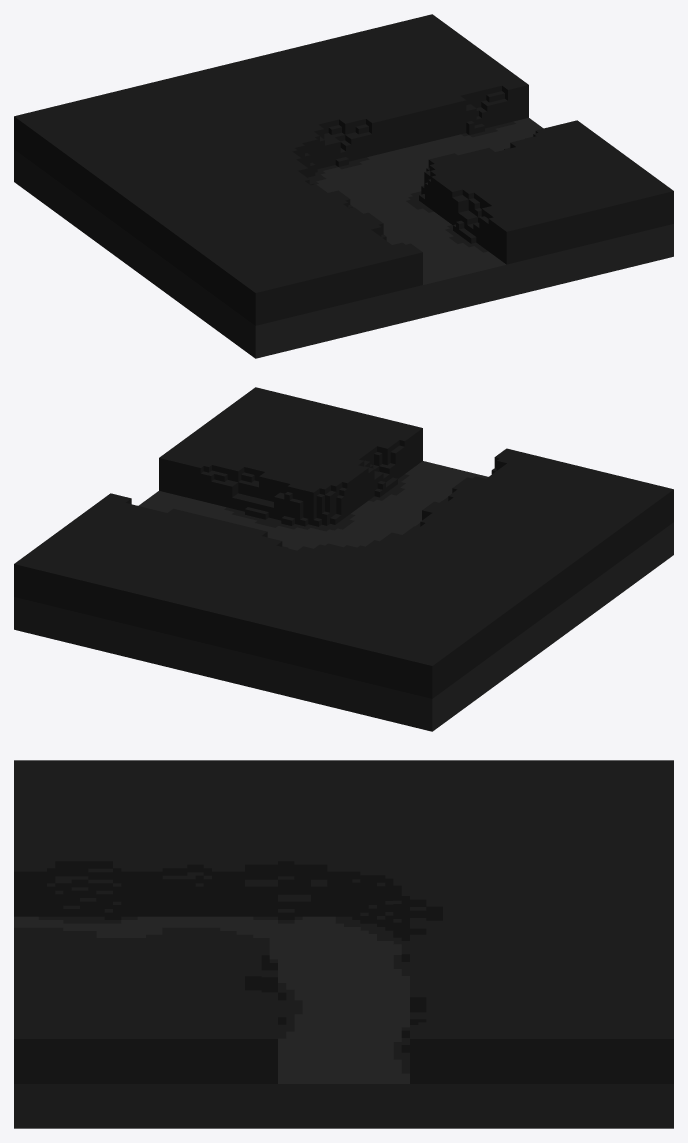
The model's file is Right Turning Path Vulcano Tile 1.obj.
3 views of the same model, one above another, from view 1: azimuth 30°, elevation 25°; view 2: azimuth 150°, elevation 25°; view 3: azimuth 270°, elevation 25° (orthographic). The views are drawn at different scales.
Size of the model in its own units: 8 by 1.2 by 8.
1 material, 1 textured.
